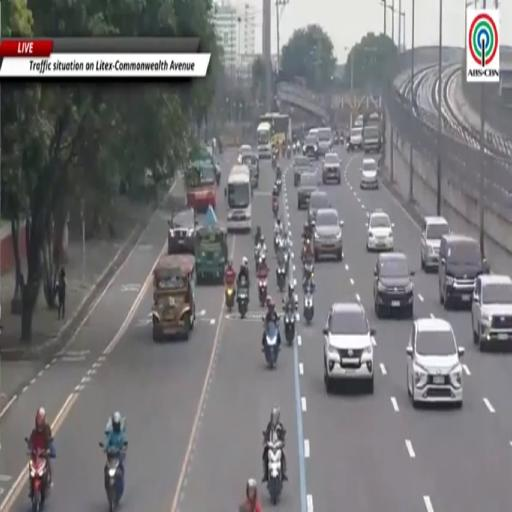bus: (227, 165, 252, 231), (259, 112, 291, 146), (257, 122, 272, 158)
car: (407, 317, 464, 407), (324, 302, 375, 393), (438, 234, 489, 309), (472, 275, 511, 350), (374, 253, 414, 317), (313, 208, 343, 261), (421, 216, 449, 270), (168, 208, 196, 254), (367, 211, 393, 251), (308, 190, 331, 226), (298, 172, 318, 210), (292, 156, 312, 186), (242, 153, 259, 188), (363, 120, 381, 153), (322, 153, 341, 184), (360, 158, 378, 188), (318, 127, 332, 154), (347, 126, 362, 151), (303, 135, 318, 159), (238, 144, 253, 164), (354, 115, 363, 127), (308, 128, 318, 136)
jeepney: (152, 254, 195, 341), (195, 226, 227, 283)
motorcycle: (99, 442, 127, 511), (29, 450, 51, 511), (267, 439, 282, 505), (264, 322, 279, 369), (303, 287, 314, 325), (285, 309, 296, 345), (237, 287, 249, 319), (301, 239, 314, 264), (258, 278, 268, 308), (303, 262, 313, 292), (255, 245, 266, 270), (276, 264, 285, 293), (225, 286, 235, 312), (303, 272, 314, 293), (274, 229, 282, 253), (275, 176, 282, 194), (272, 197, 278, 217), (281, 145, 286, 158), (292, 142, 297, 154), (272, 154, 276, 169), (287, 143, 291, 158)
truck: (185, 147, 217, 211), (363, 112, 382, 153)
